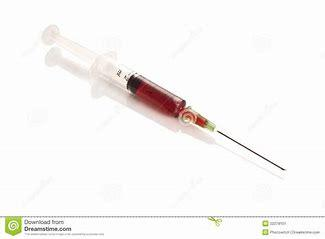Syringe: (31, 15, 289, 169)
